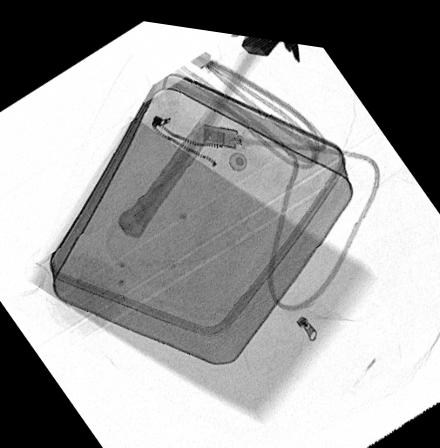Hammer: (117, 28, 281, 235)
